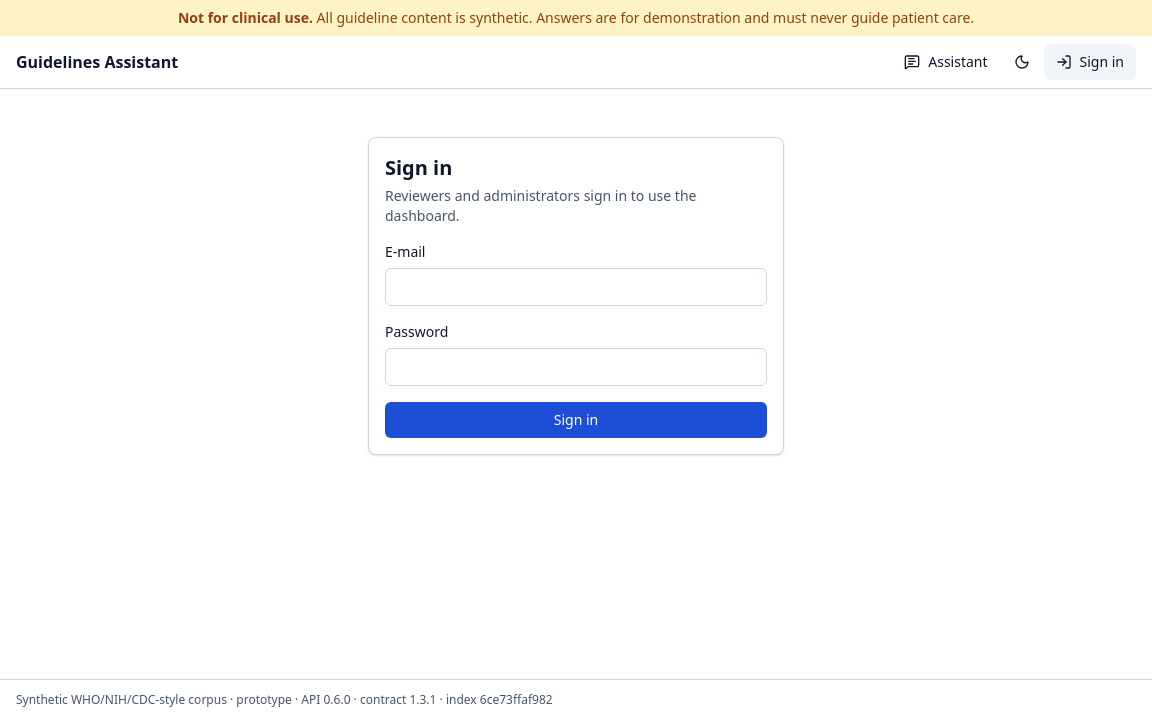
auth and route guards › validates the form and shows server errors
Click the button with test id "login-submit" at [576, 420], box x1=385 y1=402 x2=767 y2=438
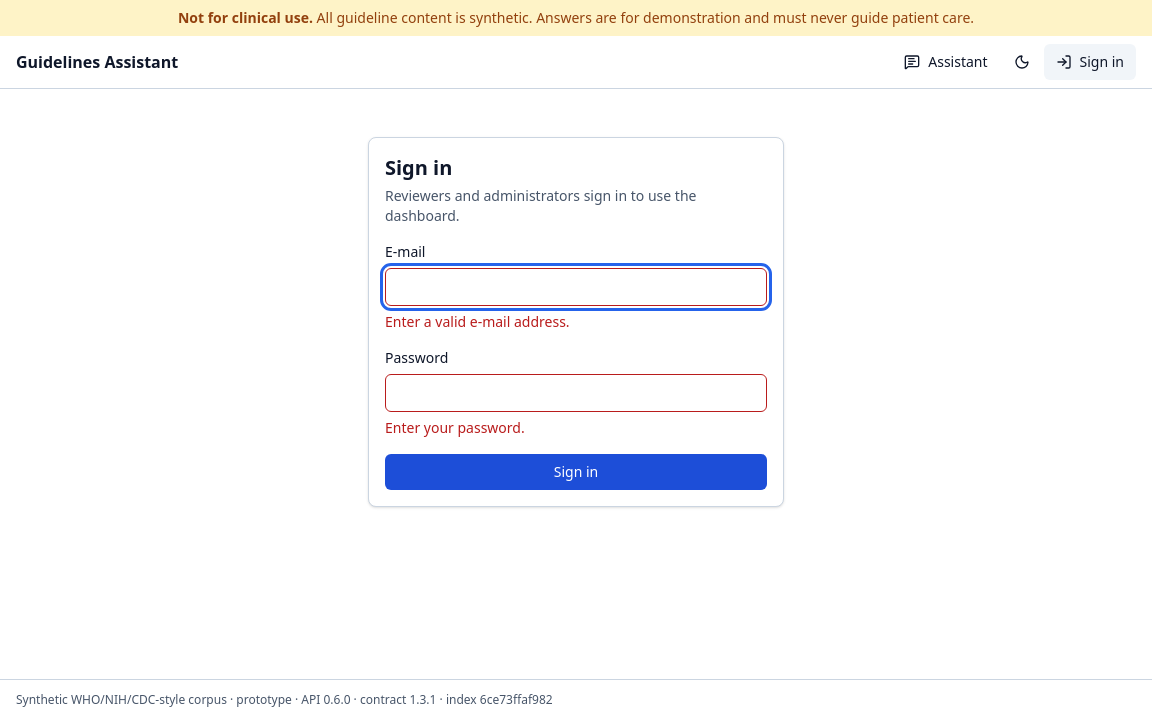
expect the text "Enter a valid e-mail address." is shown: met, box x1=385 y1=312 x2=570 y2=331
Type "nobody@example.org" into the field with test id "login-email" at [576, 287], box x1=385 y1=268 x2=767 y2=306
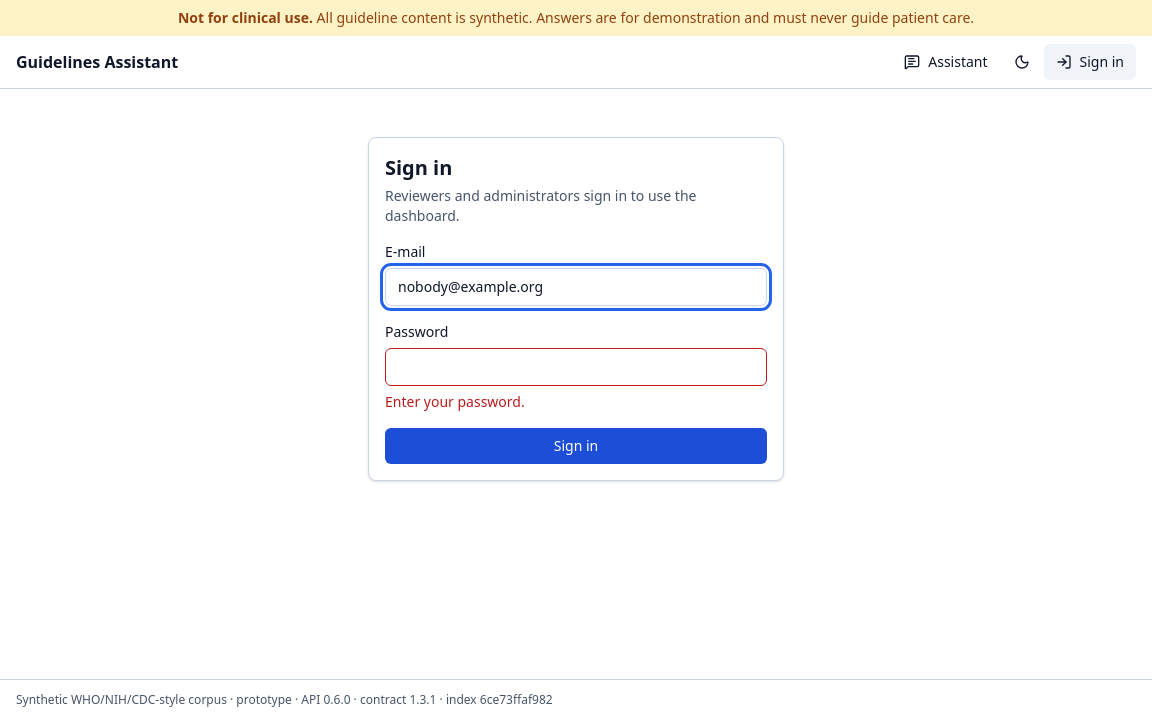
Type "x" into the password field with test id "login-password" at [576, 367], box x1=385 y1=348 x2=767 y2=386
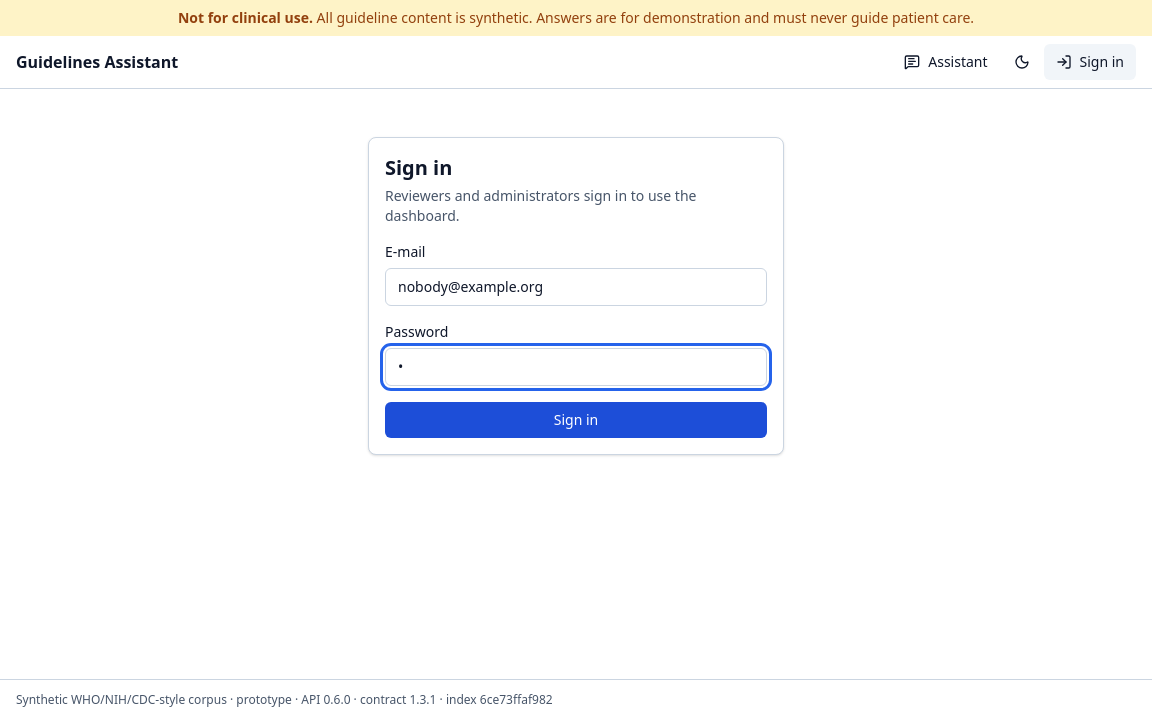
Click the button with test id "login-submit" at [576, 420], box x1=385 y1=402 x2=767 y2=438
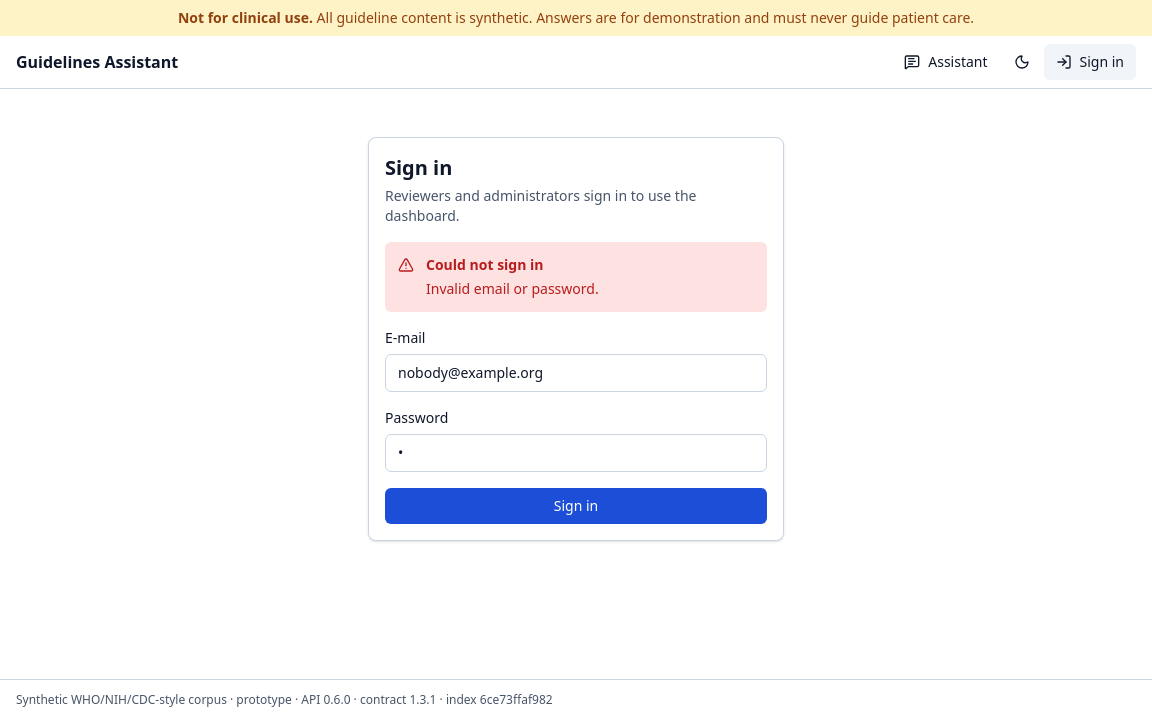
expect the message with test id "login-error" shows "Invalid email or password": met, box x1=426 y1=279 x2=599 y2=298
Click the button with test id "login-submit" at [576, 506], box x1=385 y1=488 x2=767 y2=524
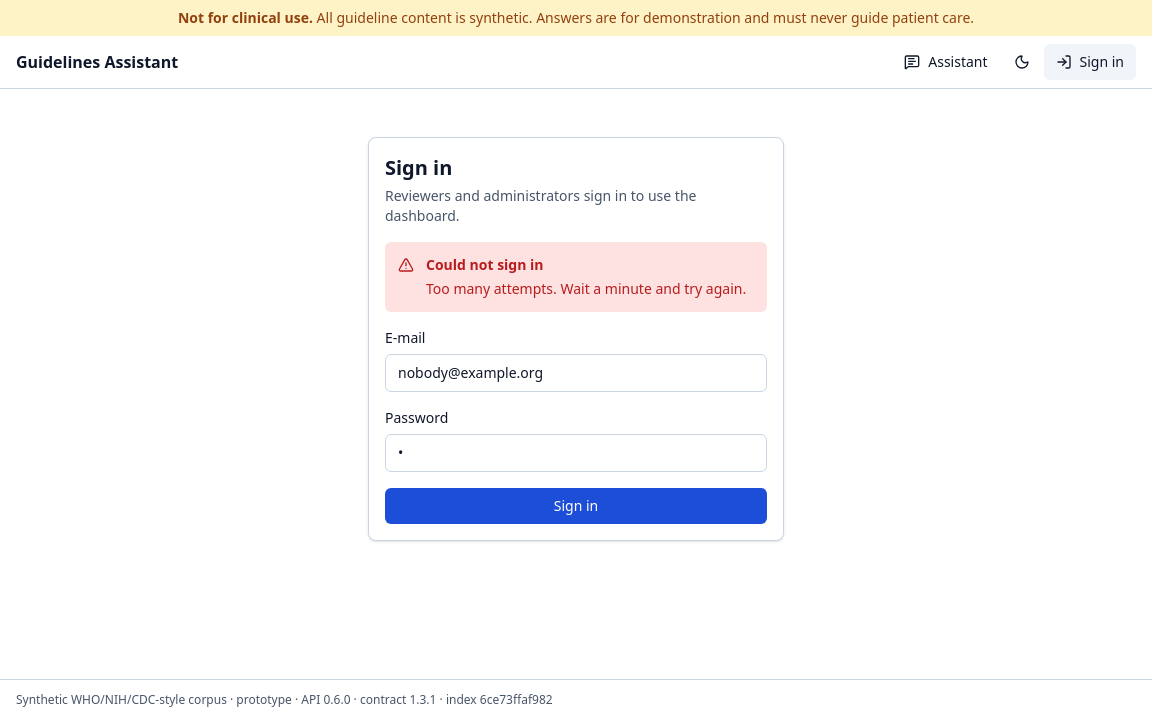
expect the message with test id "login-error" shows "Too many attempts": met, box x1=426 y1=279 x2=746 y2=298
